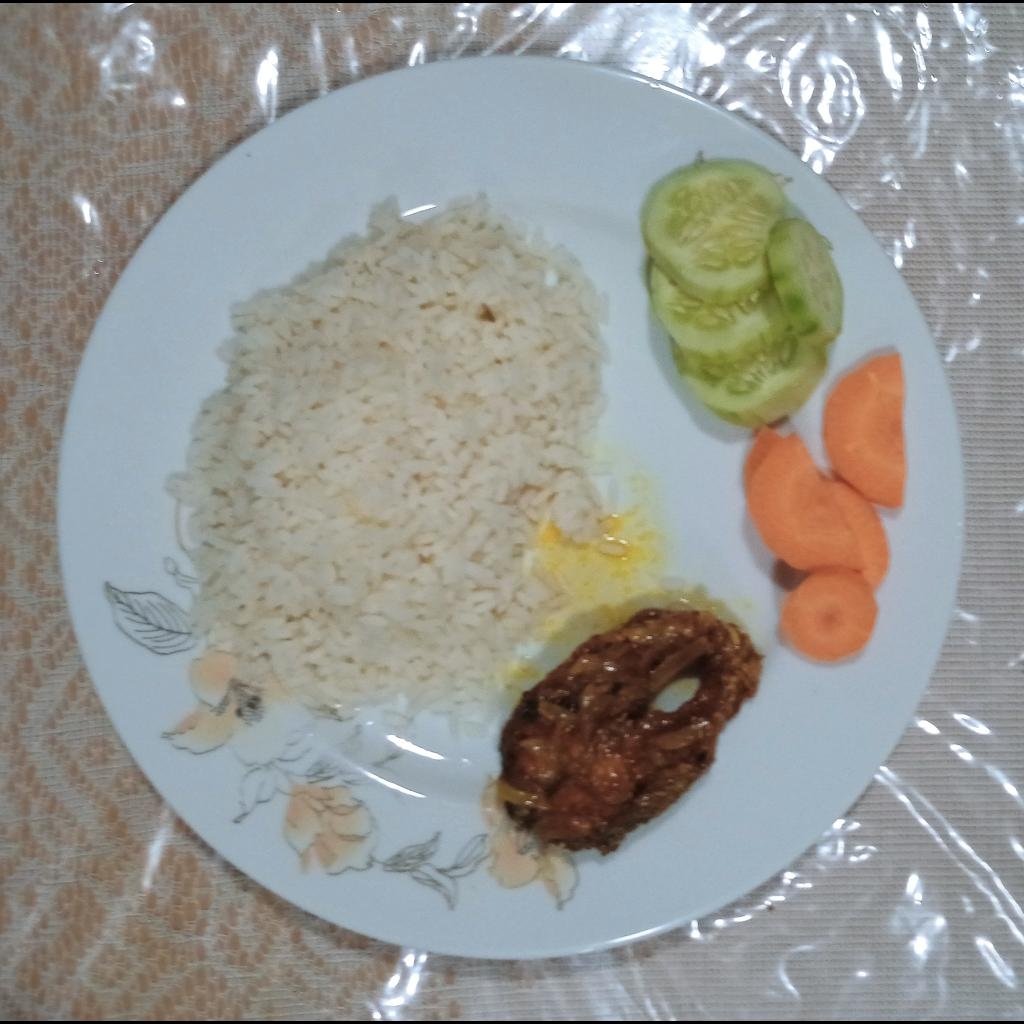carrot: (744, 352, 909, 662)
cucumber: (645, 160, 843, 427)
fish: (497, 609, 766, 853)
rice: (173, 199, 625, 738)
